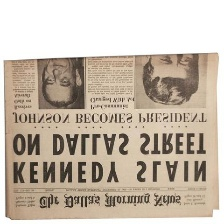news_paper: (3, 52, 223, 221)
